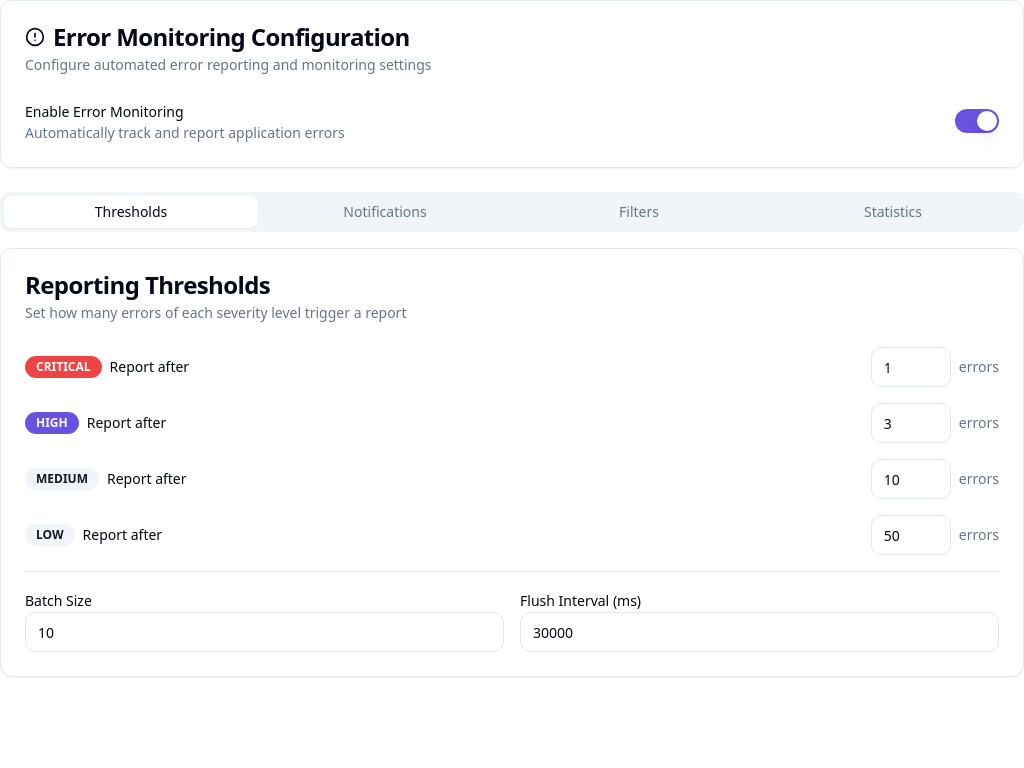
Test: ErrorMonitoringSettings › adds and removes filters
Switch to Filters tab
Click the tab "Filters".
click(639, 212)  # box x1=512 y1=196 x2=766 y2=228
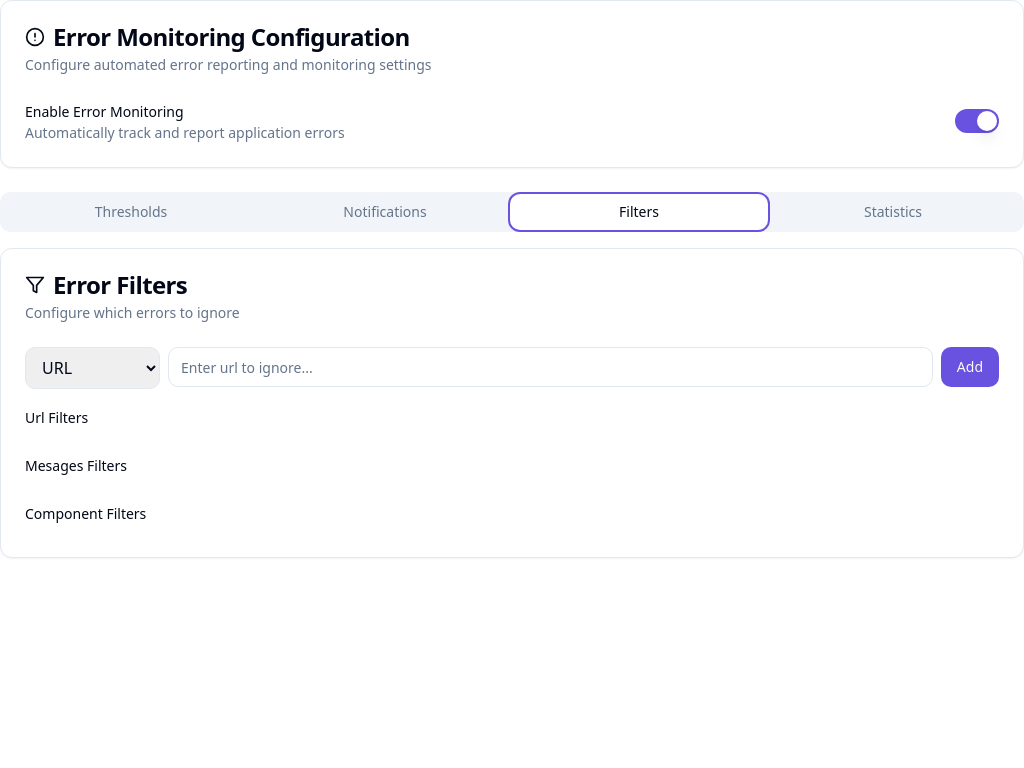
Expected: the tab "Filters" is selected, x1=512 y1=196 x2=766 y2=228
Type "http://example.com" into the field with placeholder "Enter url to ignore...".
click(550, 367); type("http://example.com")  # box x1=168 y1=347 x2=933 y2=387
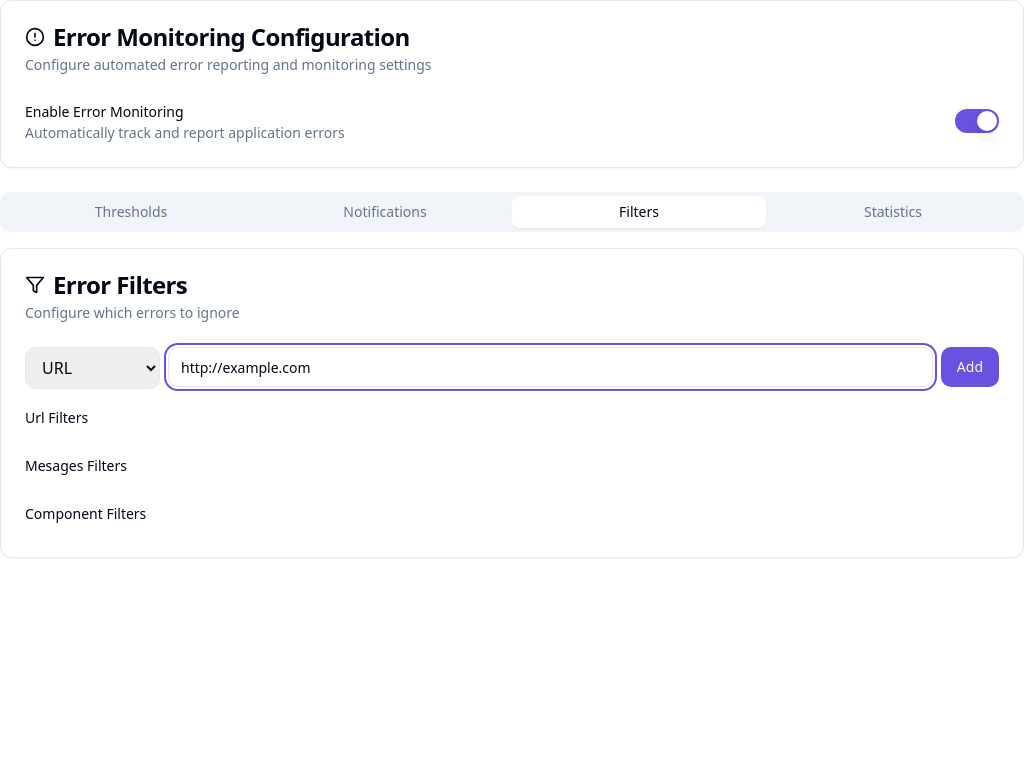
Click the button "Add".
click(970, 367)  # box x1=941 y1=347 x2=999 y2=387
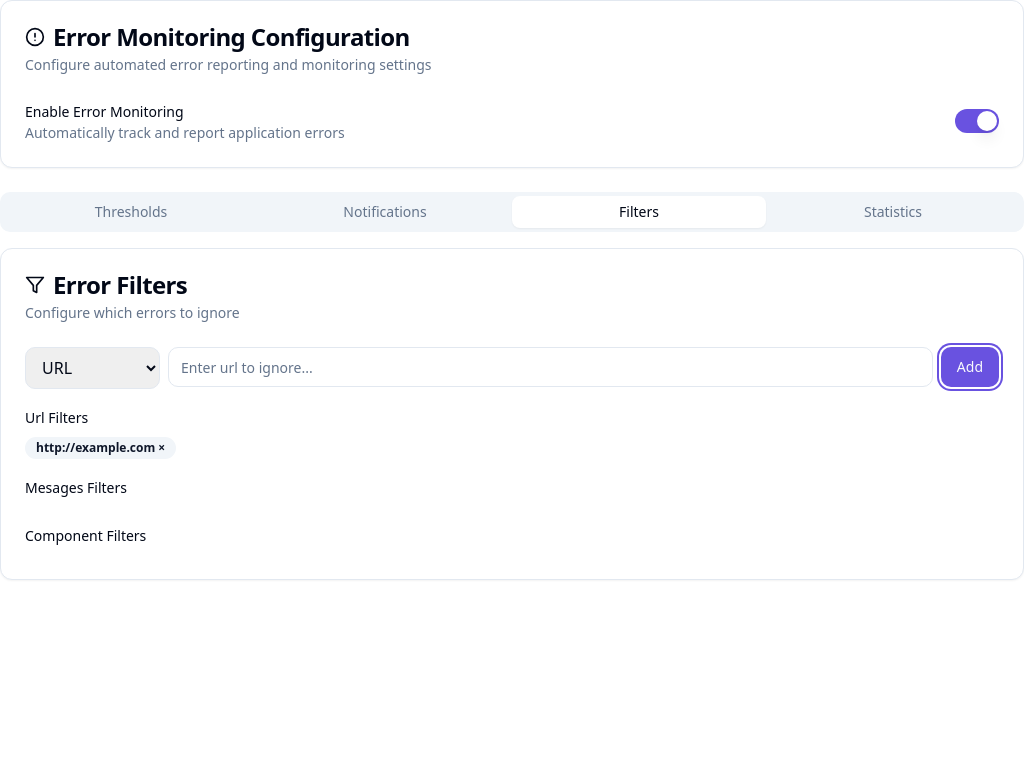
Expected: the text "http://example.com ×" is shown
remove by clicking badge
Click the text "http://example.com ×".
click(101, 448)  # box x1=25 y1=437 x2=176 y2=459
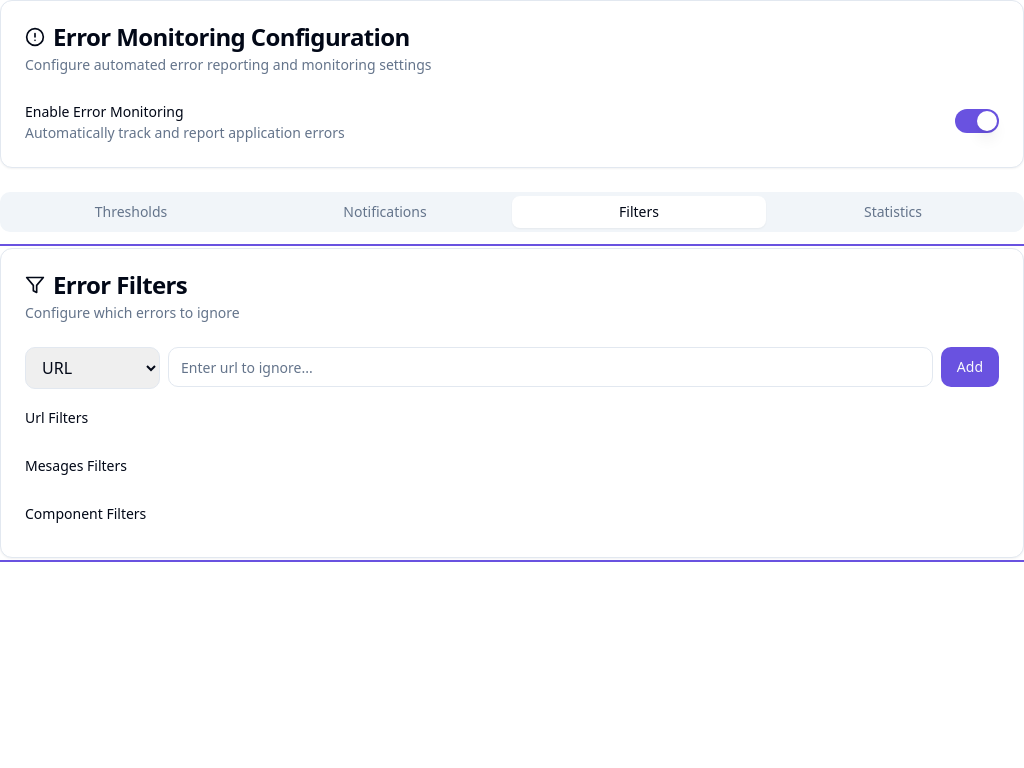
Expected: the text "http://example.com" is gone
